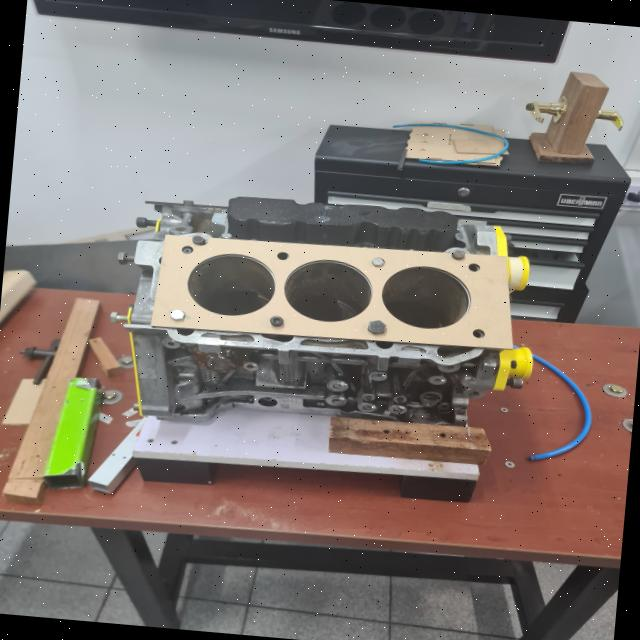tor_v1: (151, 234, 512, 349)
